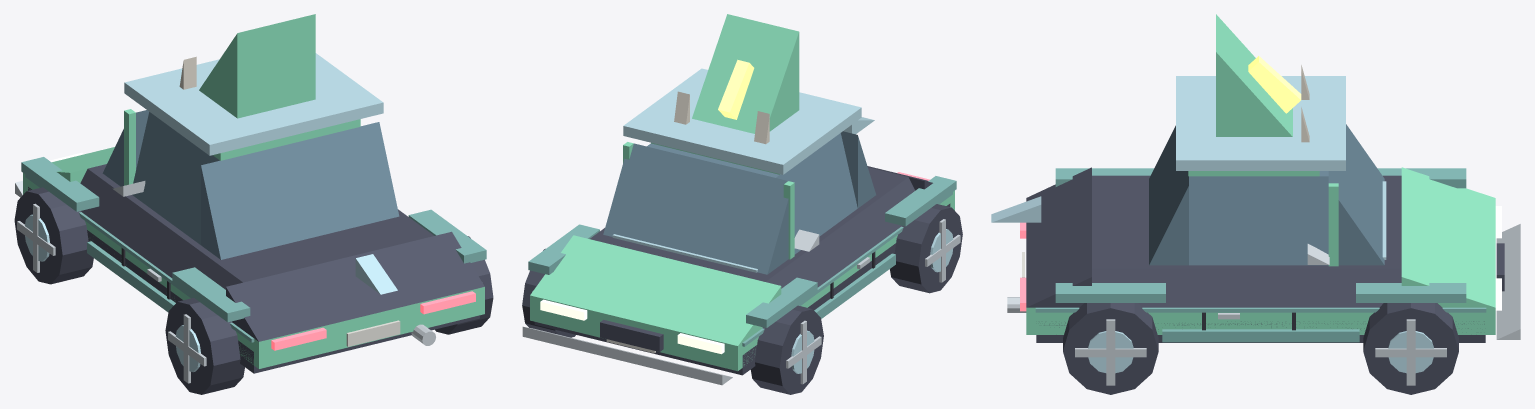
Rendered from wizard_wagon.glb.
3 views of the same model, side by side, from view 1: azimuth 30°, elevation 25°; view 2: azimuth 150°, elevation 25°; view 3: azimuth 270°, elevation 25° (orthographic). The views are drawn at different scales.
Visible parts, largest first — view 1: RearWindow.226, Tail.128, HatBrim.006, HatPeak.006, BodyUpper.123, CabinSideL.123, Body.326, ShoulderL.123, Wheel_RL.266, Wheel_FL.266, Sill.322, Arch-1False.182 (+18 smaller); view 2: Windshield.226, Nose.123, HatBrim.006, HatPeak.006, CabinSideL.123, ShoulderL.123, Body.326, Wheel_FL.266, Wheel_RL.266, BodyUpper.123, Bumper.322, Arch-1True.182 (+19 smaller); view 3: CabinSideR.123, HatBrim.006, Nose.123, ShoulderR.123, BodyUpper.123, Tail.128, Body.326, HatPeak.006, Wheel_FR.266, Wheel_RR.266, Windshield.226, RearWindow.226 (+18 smaller).
Part boxes in pixels (x1,y1,x2,y2): RearWindow.226: (201,122,399,259); Tail.128: (226,231,484,341); HatBrim.006: (124,53,383,155); HatPeak.006: (199,14,315,118); BodyUpper.123: (88,164,433,282); CabinSideL.123: (132,112,219,244); Body.326: (23,173,484,368); ShoulderL.123: (80,169,242,289); Wheel_RL.266: (165,298,244,394); Wheel_FL.266: (14,187,93,284); Sill.322: (28,187,479,373); Arch-1False.182: (21,157,99,211); Windshield.226: (603,143,788,274); Nose.123: (530,235,781,345); HatBrim.006: (623,68,861,174); HatPeak.006: (692,14,799,133); CabinSideL.123: (776,133,857,254); ShoulderL.123: (766,177,915,288); Body.326: (530,190,954,371); Wheel_FL.266: (750,305,823,394); Wheel_RL.266: (890,204,962,293); BodyUpper.123: (590,167,908,281); Bumper.322: (522,326,732,385); Arch-1True.182: (885,176,956,226); CabinSideR.123: (1189,176,1328,265); HatBrim.006: (1176,76,1345,170); Nose.123: (1401,167,1495,307); ShoulderR.123: (1092,268,1401,307); BodyUpper.123: (1092,175,1401,268); Tail.128: (1026,167,1091,307); Body.326: (1026,307,1495,334); HatPeak.006: (1216,14,1292,136); Wheel_FR.266: (1363,303,1458,394); Wheel_RR.266: (1063,303,1158,394); Windshield.226: (1328,124,1384,265); RearWindow.226: (1149,125,1188,265).
Bounding box in the file's own units: 3.3 × 3.25 × 5.3.
